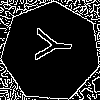Y: (26, 26, 73, 63)
